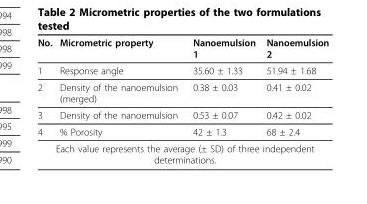table: (36, 36, 328, 164)
table column: (55, 36, 184, 164), (184, 36, 260, 164), (260, 36, 328, 164), (36, 36, 55, 164)
table column header: (36, 36, 328, 61)
table projected row header: (36, 139, 328, 164)
table row: (36, 78, 328, 106), (36, 36, 328, 61), (36, 139, 328, 164), (36, 61, 328, 78), (36, 106, 328, 123), (36, 123, 328, 139)
